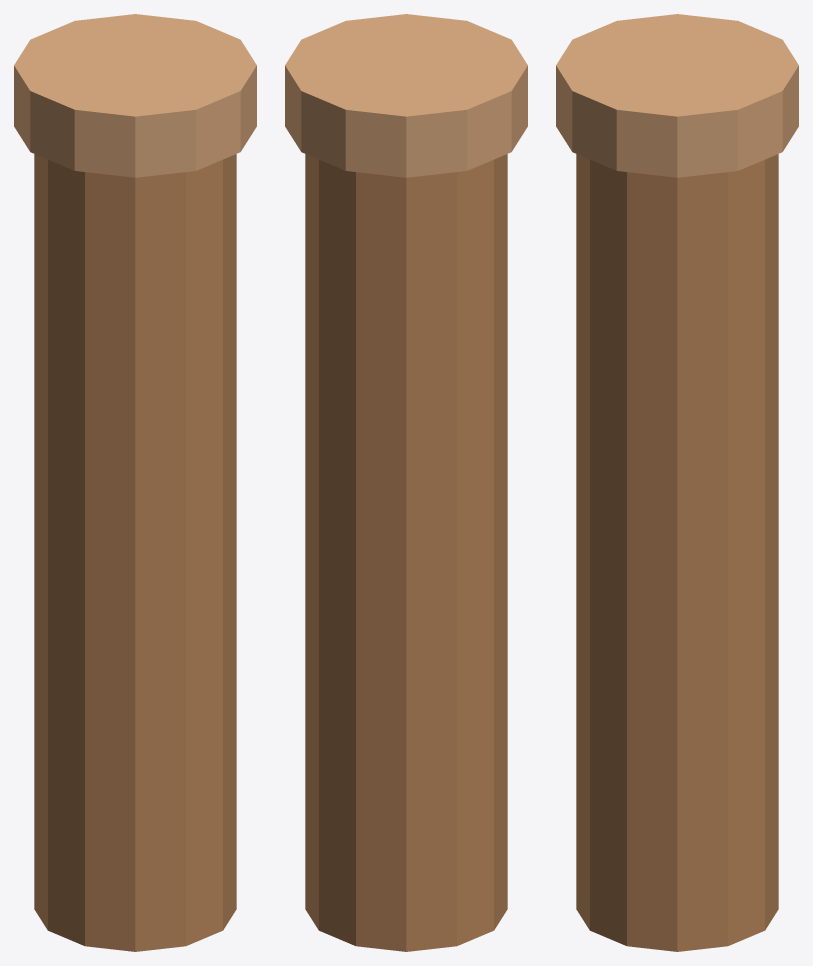
The model's file is dock_post.glb.
The picture shows the model from 3 angles, left to right: view 1: azimuth 30°, elevation 25°; view 2: azimuth 150°, elevation 25°; view 3: azimuth 270°, elevation 25°; orthographic projection.
Parts seen in each view (by area): view 1: dock_post; view 2: dock_post; view 3: dock_post.
Part boxes in pixels (x1,y1,x2,y2): dock_post: [14, 14, 256, 951]; dock_post: [285, 14, 527, 951]; dock_post: [556, 14, 798, 951].
Bounding box in the file's own units: 0.36 × 1.38 × 0.36.
